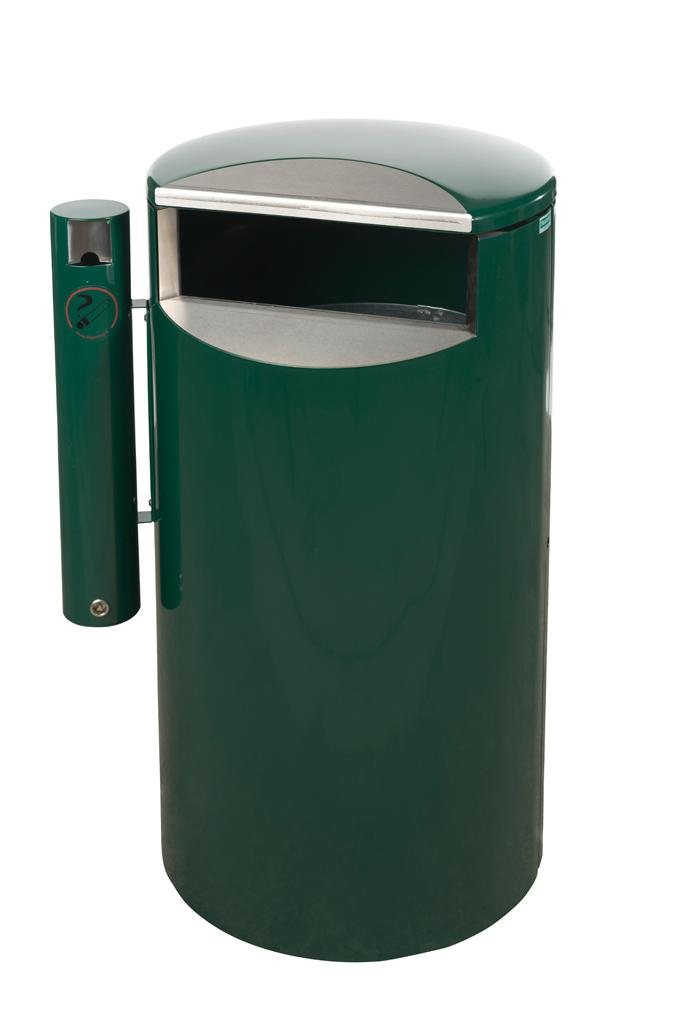trash bin: (41, 109, 615, 981)
